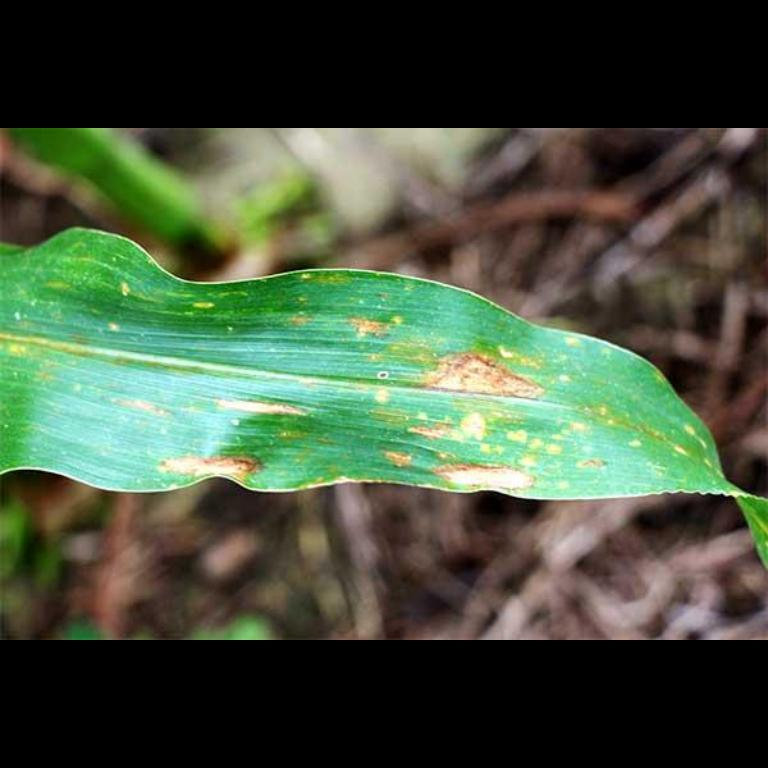blight: (410, 328, 558, 494)
